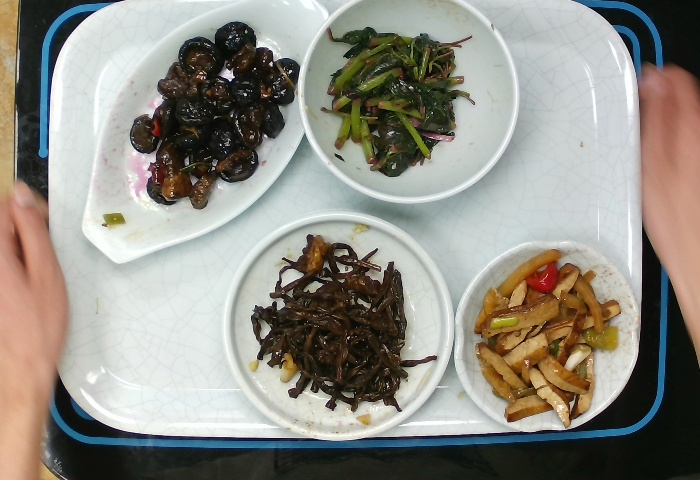JYsf-Ao_Yuan_Wan: (454, 238, 642, 433)
JYsf-Fan_Wan: (295, 1, 521, 205)
JYsf-Xiao_Yuan_Pan: (221, 210, 454, 442)
JYsf-Yu_Pan: (78, 1, 330, 263)
